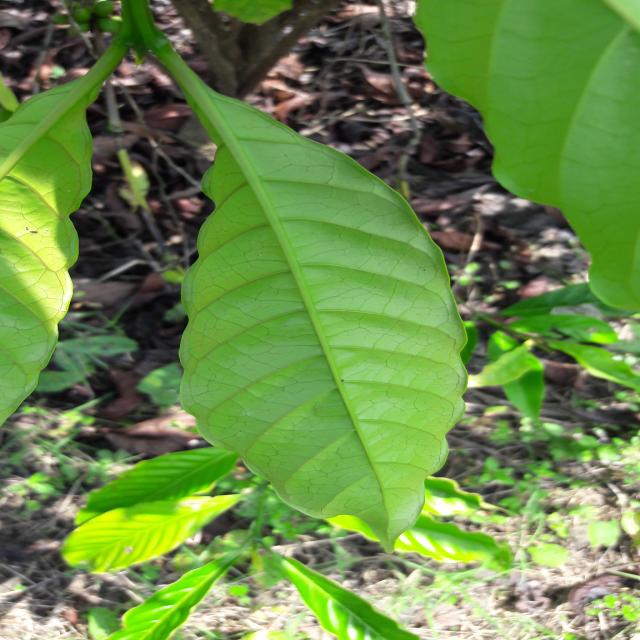Sanas: (154, 45, 469, 554)
